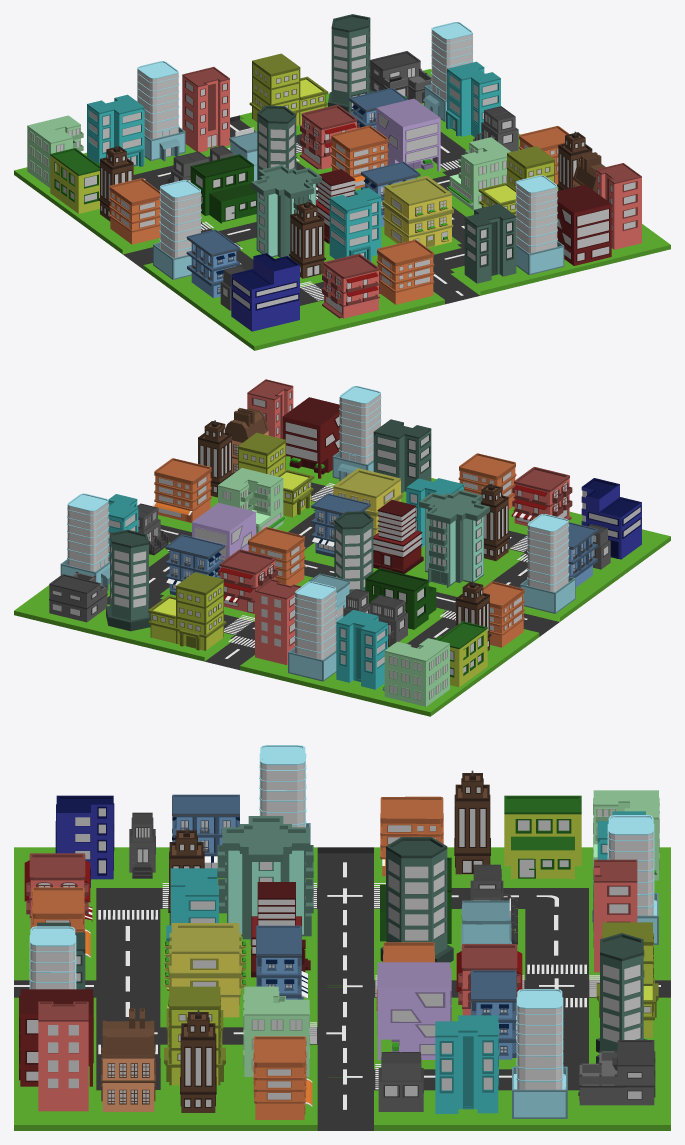
The model's file is buildings.fbx.
3 views of the same model, one above another, from view 1: azimuth 30°, elevation 25°; view 2: azimuth 150°, elevation 25°; view 3: azimuth 270°, elevation 25° (orthographic). The views are drawn at different scales.
Visible parts, largest first — view 1: base, b12.001, b2.001, b20.003, b11.001, b10.002, b20.004, b16.002, b17.003, b10.001, b20.001, b15.002 (+31 smaller); view 2: base, b11.001, b14.002, b20.001, b20.004, b15.002, b4.001, b10.002, b20.002, b17.004, b20.003, b12.001 (+32 smaller); view 3: base, b11.001, b15.001, b20.002, b18.002, b10.001, b17.002, b2.001, b16.001, b1.001, b15.002, b9.003 (+32 smaller).
Boxes of the visible parts, bbox=[...] form: base: bbox=[14, 69, 670, 350]; b12.001: bbox=[231, 253, 299, 331]; b2.001: bbox=[382, 175, 453, 247]; b20.003: bbox=[515, 175, 564, 275]; b11.001: bbox=[251, 165, 321, 257]; b10.002: bbox=[557, 184, 611, 265]; b20.004: bbox=[137, 61, 185, 161]; b16.002: bbox=[182, 67, 229, 152]; b17.003: bbox=[464, 203, 516, 283]; b10.001: bbox=[376, 98, 440, 171]; b20.001: bbox=[153, 180, 201, 279]; b15.002: bbox=[328, 14, 374, 113]; base: bbox=[14, 456, 670, 716]; b11.001: bbox=[419, 489, 489, 587]; b14.002: bbox=[148, 572, 226, 650]; b20.001: bbox=[519, 514, 575, 613]; b20.004: bbox=[288, 581, 336, 681]; b15.002: bbox=[106, 529, 150, 631]; b4.001: bbox=[382, 638, 449, 706]; b10.002: bbox=[282, 397, 339, 478]; b20.002: bbox=[60, 493, 109, 590]; b17.004: bbox=[336, 610, 387, 689]; b20.003: bbox=[332, 386, 381, 481]; b12.001: bbox=[581, 478, 641, 559]; base: bbox=[14, 847, 670, 1130]; b11.001: bbox=[217, 816, 313, 945]; b15.001: bbox=[380, 837, 453, 962]; b20.002: bbox=[512, 989, 567, 1118]; b18.002: bbox=[504, 795, 581, 879]; b10.001: bbox=[377, 962, 451, 1059]; b17.002: bbox=[435, 1015, 498, 1113]; b2.001: bbox=[164, 923, 246, 1017]; b16.001: bbox=[38, 1001, 88, 1111]; b1.001: bbox=[101, 1008, 155, 1111]; b15.002: bbox=[596, 933, 647, 1063]; b9.003: bbox=[253, 1036, 312, 1119].
Bounding box in the file's own units: 3902 × 787 × 3902.
